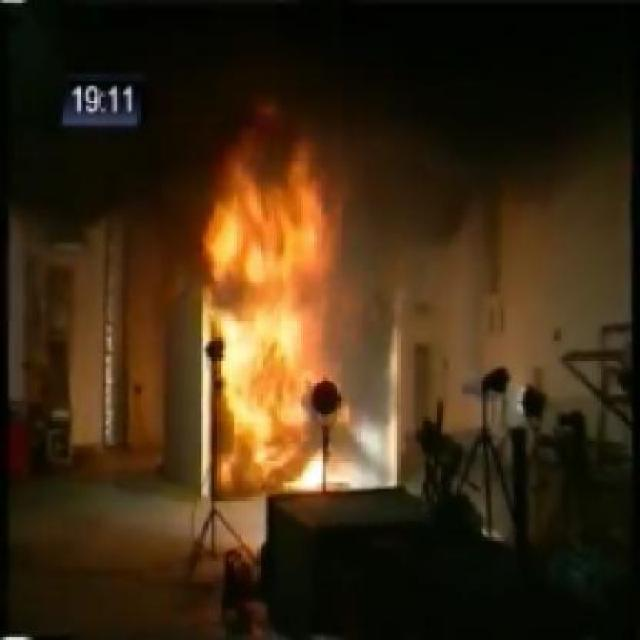smoke: (178, 112, 379, 497)
